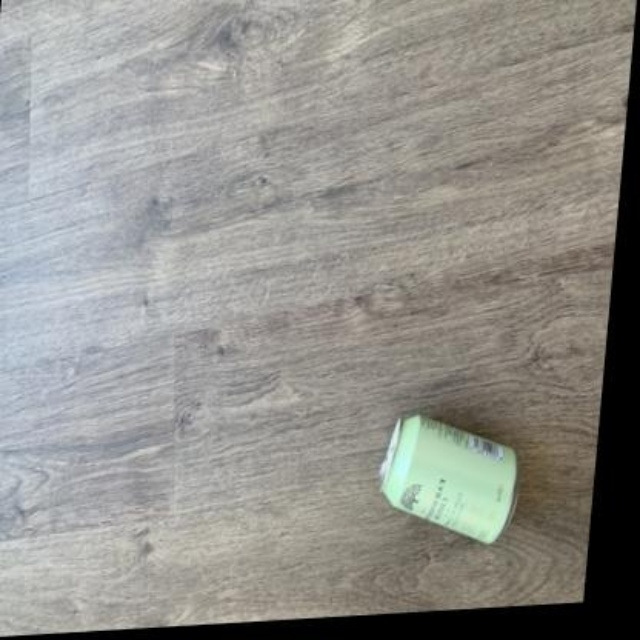trash: (380, 415, 515, 542)
